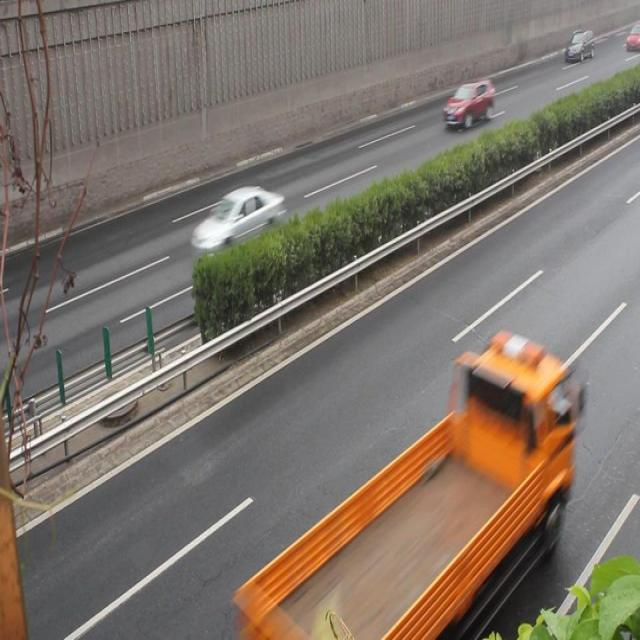bus: (232, 328, 573, 640)
car: (190, 184, 286, 266), (442, 80, 494, 130)
